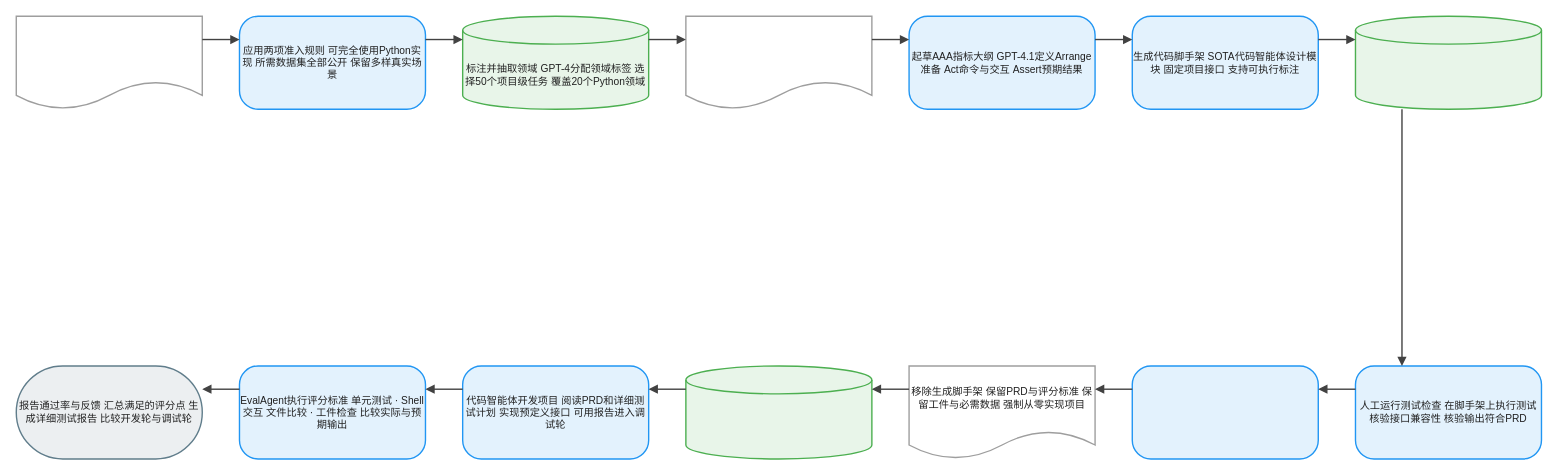
Some shapes in this 1559 by 476 pixel diagram are drawn without their labels. Each missing label, with the centre of its shape:
定稿PRDBench 50个项目 · 20个领域 共1262个评分点 单测409 · Shell729 · 文件124: (778,412)
展开评分标准 细化每个评分点 添加测试接口与工件 绑定命令和预期输出: (1448,62)
智能体修复迭代 标注者提供定向反馈 智能体修改脚手架或标准 重复检查直至问题解决: (1225,412)
标准化每份PRD 使用GPT-4.1或Claude Code 细化需求与功能说明 定义数据要求和接口: (778,62)
汇集真实项目种子 AI产品平台用户需求 学术论文与项目 真实工程开发要求: (109,62)
